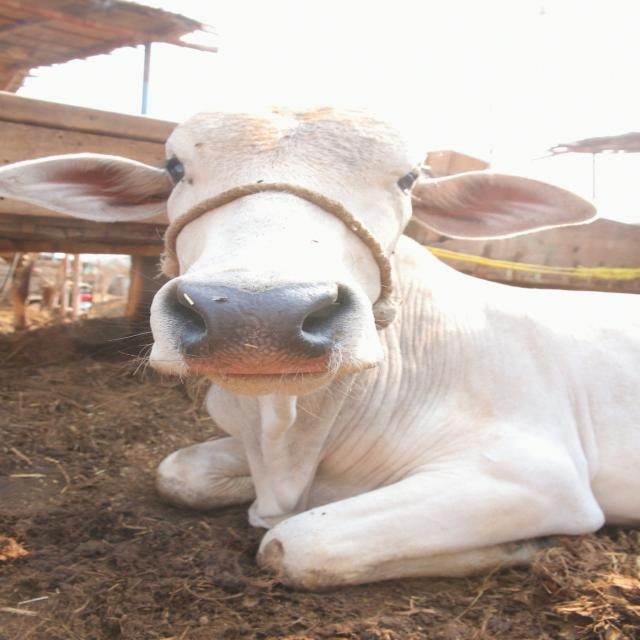muzzles: (151, 268, 357, 382)
